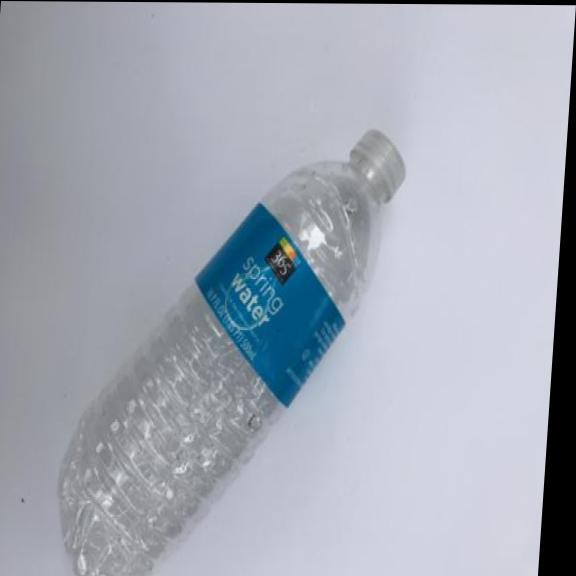Plastik: (36, 112, 428, 576)
